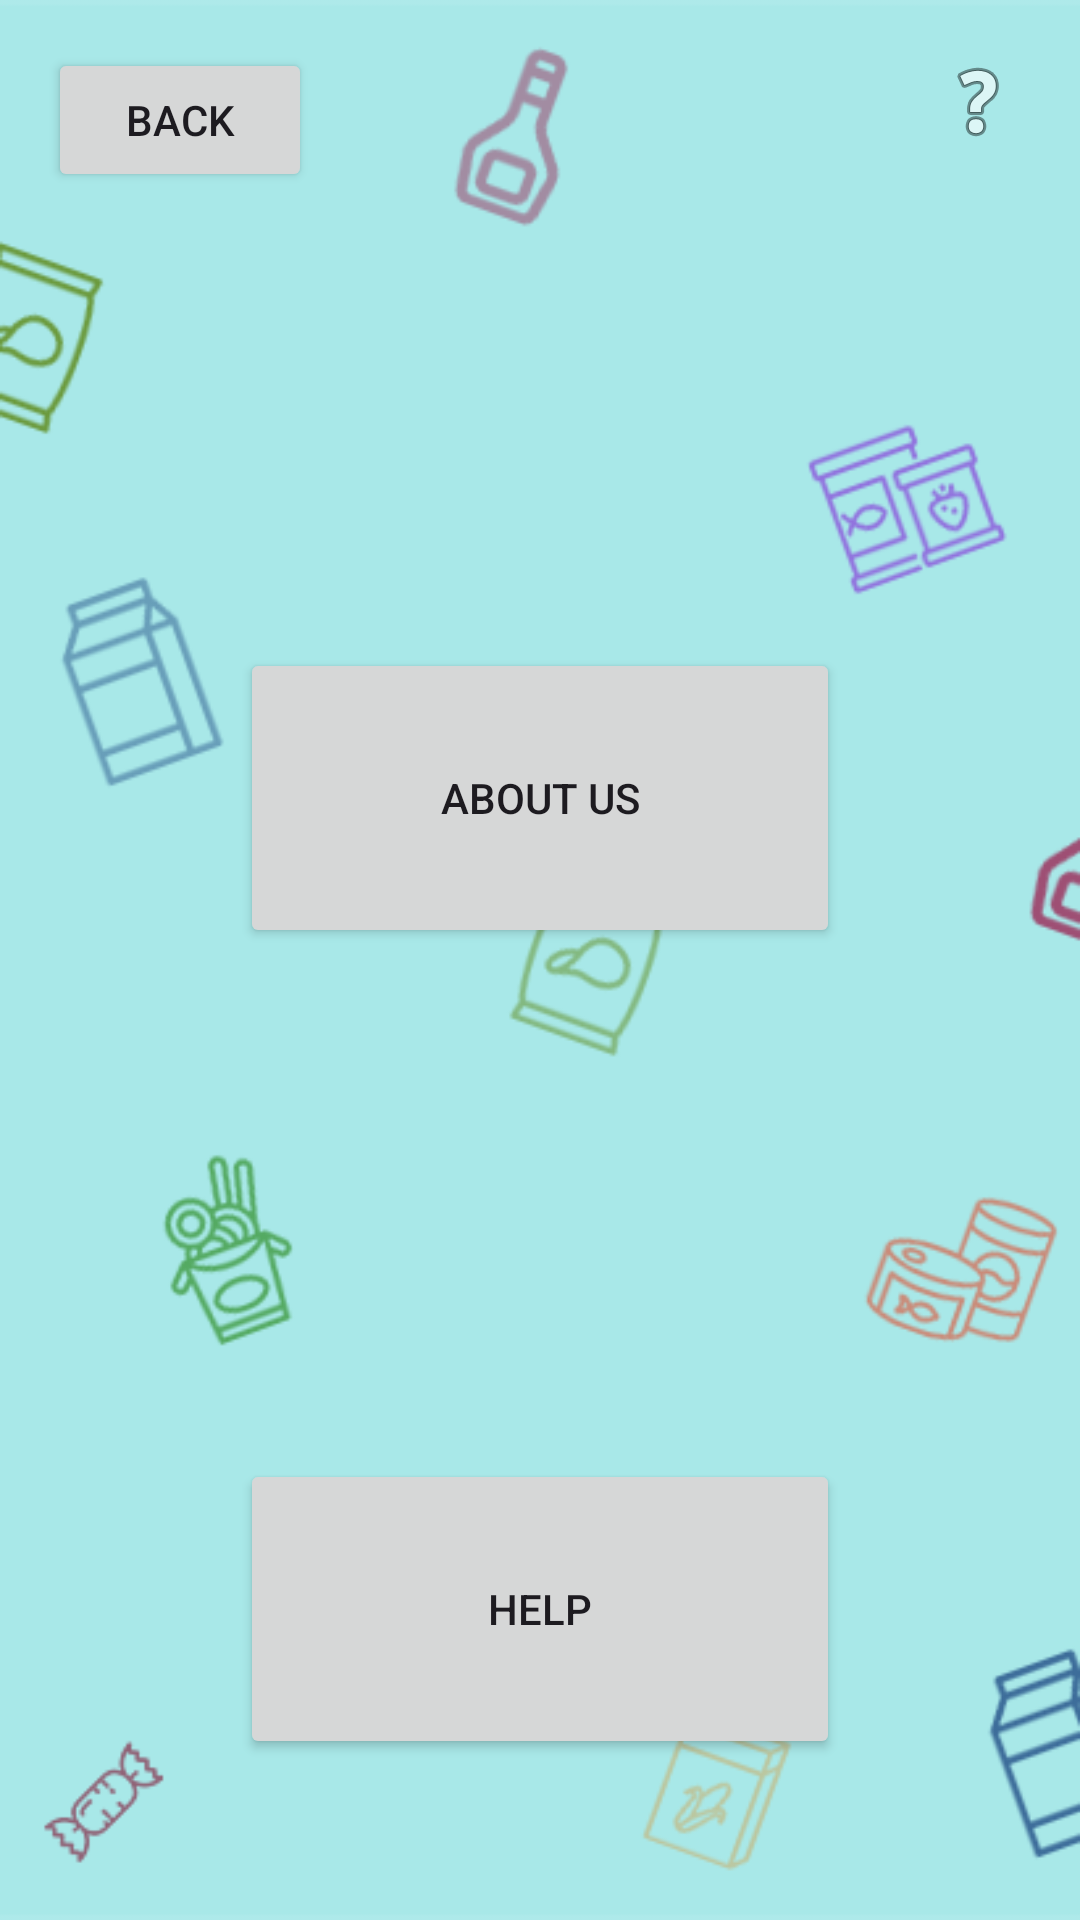

Named icons in this screenshot (1080 x 1920) and their centers, [x,y]:
help: [978,102]
